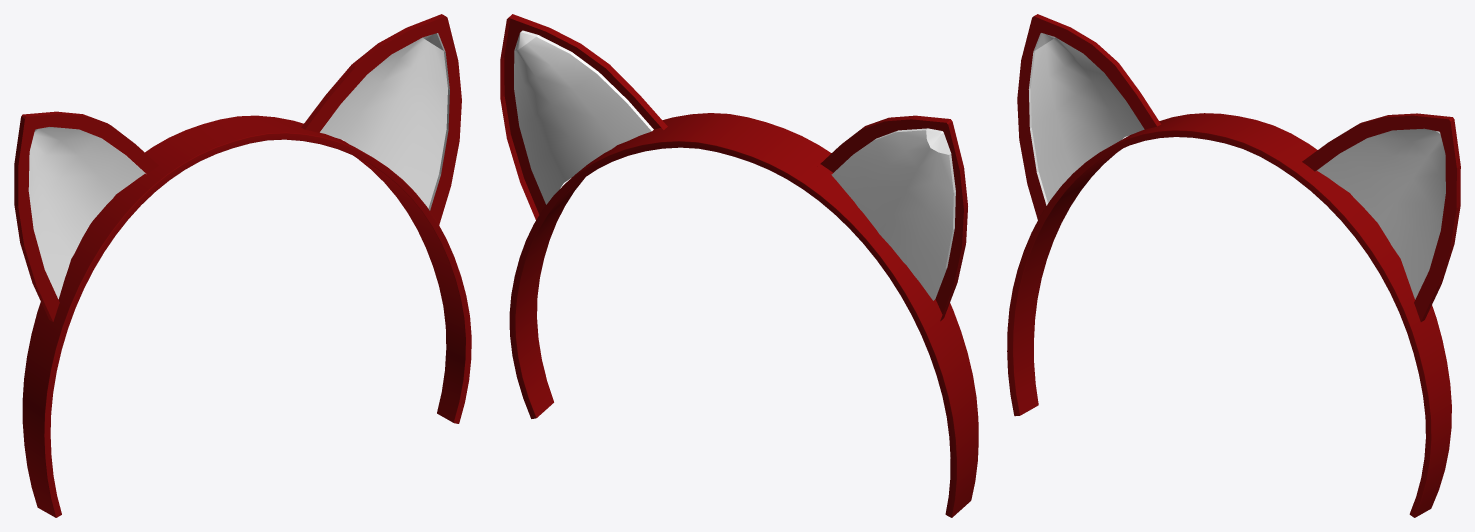
The model's file is CatEarHeadband_Boy.fbx.
3 views of the same model, side by side, from view 1: azimuth 30°, elevation 25°; view 2: azimuth 150°, elevation 25°; view 3: azimuth 330°, elevation 25° (orthographic). The views are drawn at different scales.
Visible parts, largest first — view 1: Cat_ear_headband; view 2: Cat_ear_headband; view 3: Cat_ear_headband.
Boxes of the visible parts, bbox=[...] form: Cat_ear_headband: bbox=[14, 14, 471, 517]; Cat_ear_headband: bbox=[500, 14, 978, 517]; Cat_ear_headband: bbox=[1007, 14, 1460, 517].
Size of the model in its own units: 50.82 by 42.92 by 8.
